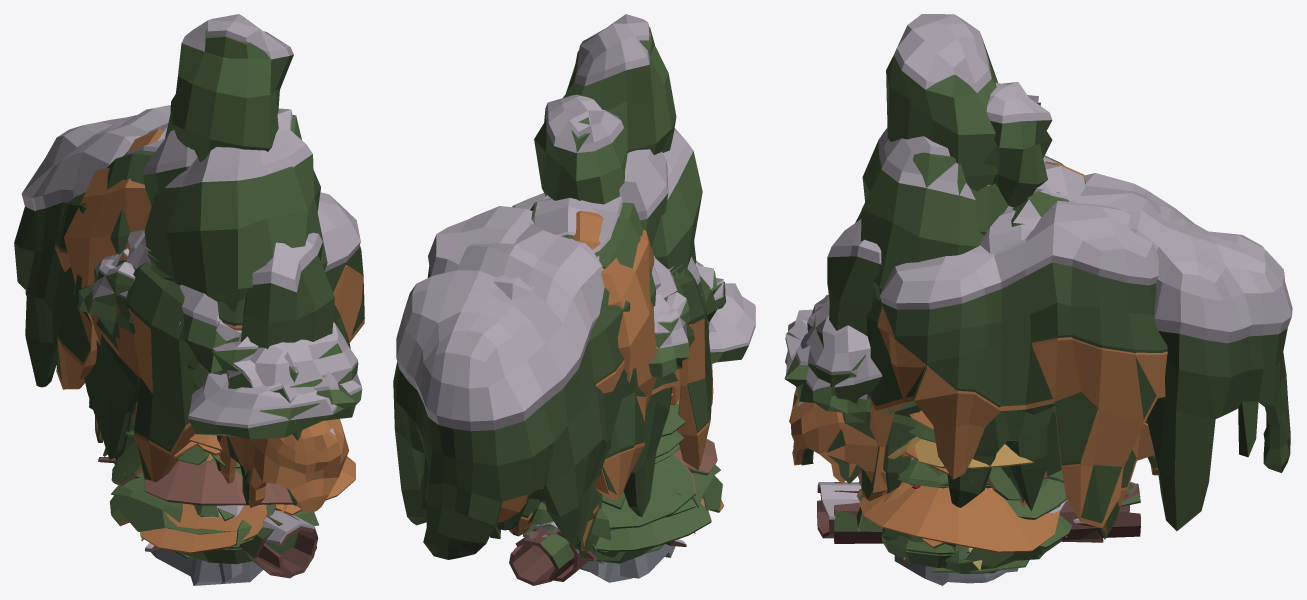
File: lowpoly.glb
3 renders of one model, left to right at view 1: azimuth 30°, elevation 25°; view 2: azimuth 150°, elevation 25°; view 3: azimuth 270°, elevation 25°, orthographic. The views are drawn at different scales.
Parts seen in each view (by area): view 1: BirchTree_Snow_2_Cube.121, Willow_Snow_2_Cube.144, BirchTree_2_Cube.064, Willow_4_Cube.043, CommonTree_Snow_1_Cube.127, Willow_Autumn_5_Cube.084, BirchTree_5_Cube.072, BirchTree_Snow_5_Cube.118, Willow_Autumn_4_Cube.085, BirchTree_Autumn_1_Cube.097, Willow_Snow_4_Cube.142, CommonTree_Snow_2_Cube.128 (+20 smaller); view 2: Willow_Snow_2_Cube.144, Willow_2_Cube.011, BirchTree_Snow_5_Cube.118, Willow_Snow_4_Cube.142, BirchTree_Autumn_1_Cube.097, BirchTree_5_Cube.072, Willow_Autumn_4_Cube.085, Willow_4_Cube.043, PineTree_2_Cylinder.024, BirchTree_Snow_2_Cube.121, PineTree_3_Cylinder.025, BirchTree_Snow_3_Cube.120 (+14 smaller); view 3: Willow_Snow_2_Cube.144, Willow_Snow_4_Cube.142, Willow_Autumn_4_Cube.085, Willow_4_Cube.043, BirchTree_Snow_5_Cube.118, BirchTree_Snow_2_Cube.121, PineTree_Autumn_1_Cylinder.065, Willow_2_Cube.011, BirchTree_2_Cube.064, CommonTree_Snow_1_Cube.127, BirchTree_5_Cube.072, Willow_Autumn_5_Cube.084 (+21 smaller).
Boxes of the visible parts, x1,y1,x2,y2 form: BirchTree_Snow_2_Cube.121: (144, 108, 334, 348); Willow_Snow_2_Cube.144: (14, 105, 170, 459); BirchTree_2_Cube.064: (144, 115, 334, 348); Willow_4_Cube.043: (54, 192, 364, 469); CommonTree_Snow_1_Cube.127: (188, 322, 362, 428); Willow_Autumn_5_Cube.084: (219, 419, 349, 513); BirchTree_5_Cube.072: (165, 29, 293, 151); BirchTree_Snow_5_Cube.118: (165, 14, 293, 162); Willow_Autumn_4_Cube.085: (55, 245, 364, 490); BirchTree_Autumn_1_Cube.097: (64, 128, 163, 345); Willow_Snow_4_Cube.142: (55, 121, 364, 480); CommonTree_Snow_2_Cube.128: (126, 236, 356, 440); Willow_Snow_2_Cube.144: (393, 224, 670, 559); Willow_2_Cube.011: (395, 340, 672, 559); BirchTree_Snow_5_Cube.118: (528, 14, 676, 225); Willow_Snow_4_Cube.142: (427, 193, 706, 467); BirchTree_Autumn_1_Cube.097: (572, 210, 680, 410); BirchTree_5_Cube.072: (534, 27, 675, 204); Willow_Autumn_4_Cube.085: (497, 318, 712, 522); Willow_4_Cube.043: (428, 266, 712, 494); PineTree_2_Cylinder.024: (601, 403, 708, 528); BirchTree_Snow_2_Cube.121: (651, 128, 702, 276); PineTree_3_Cylinder.025: (527, 430, 719, 551); BirchTree_Snow_3_Cube.120: (619, 149, 681, 279); Willow_Snow_2_Cube.144: (980, 173, 1292, 523); Willow_Snow_4_Cube.142: (861, 200, 1180, 523); Willow_Autumn_4_Cube.085: (862, 306, 1167, 527); Willow_4_Cube.043: (861, 273, 1167, 520); BirchTree_Snow_5_Cube.118: (888, 14, 1076, 207); BirchTree_Snow_2_Cube.121: (827, 128, 983, 335); PineTree_Autumn_1_Cylinder.065: (859, 410, 1059, 552); Willow_2_Cube.011: (1008, 332, 1290, 530); BirchTree_2_Cube.064: (828, 150, 982, 328); CommonTree_Snow_1_Cube.127: (785, 295, 1054, 422); BirchTree_5_Cube.072: (886, 64, 1052, 205); Willow_Autumn_5_Cube.084: (789, 388, 887, 495).
Size of the model in its own units: 2.35 by 5.29 by 4.42.
